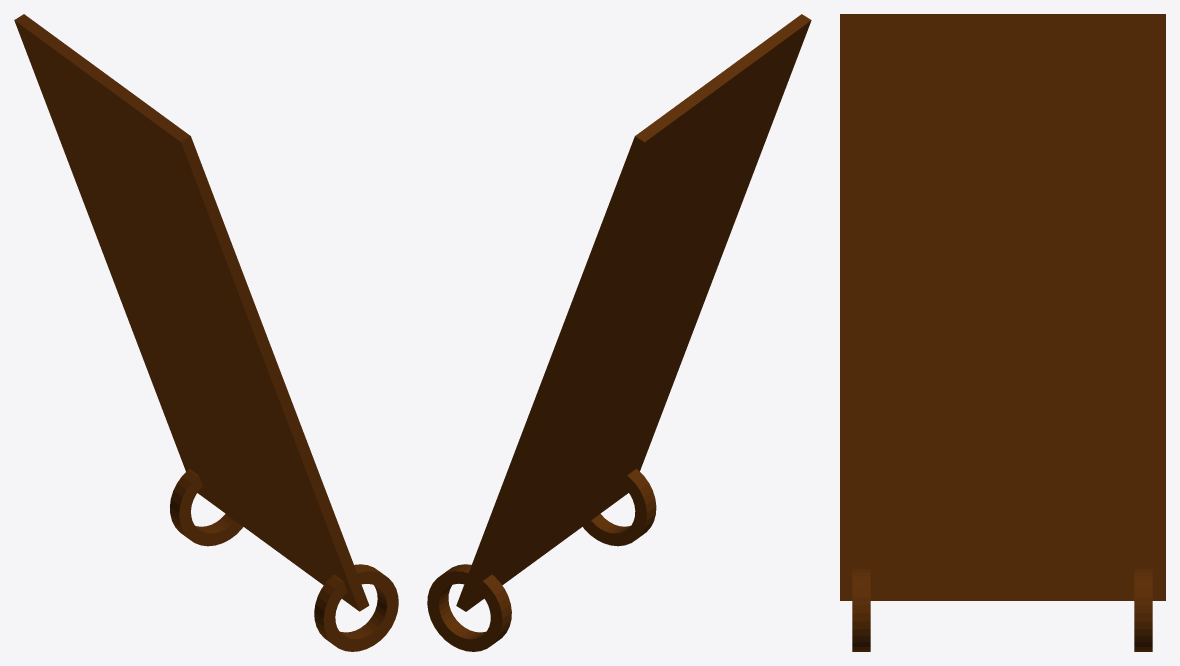
Rendered from rotating_ramp.fbx.
The picture shows the model from 3 angles, left to right: view 1: azimuth 30°, elevation 25°; view 2: azimuth 150°, elevation 25°; view 3: azimuth 270°, elevation 25°; orthographic projection. The views are drawn at different scales.
Parts seen in each view (by area): view 1: Cube.010; view 2: Cube.010; view 3: Cube.010.
Boxes of the visible parts, x1,y1,x2,y2 form: Cube.010: (14, 14, 398, 651); Cube.010: (427, 14, 811, 651); Cube.010: (840, 14, 1165, 651).
Size of the model in its own units: 323 by 775 by 417.
